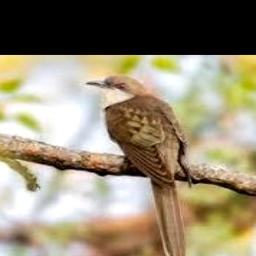Cuckoo: (85, 74, 190, 256)
